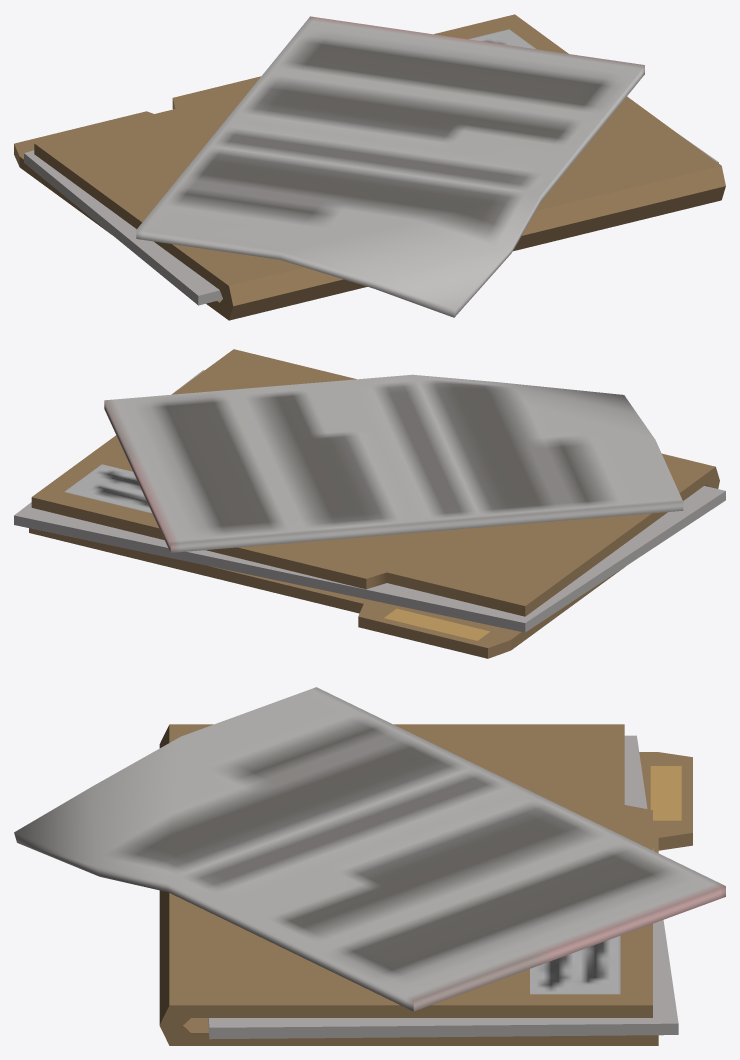
File: SM_Prop_Folder_Manila_03.fbx
3 views of the same model, one above another, from view 1: azimuth 30°, elevation 25°; view 2: azimuth 150°, elevation 25°; view 3: azimuth 270°, elevation 25° (orthographic). The views are drawn at different scales.
Parts seen in each view (by area): view 1: SM_Prop_Folder_Manila_03; view 2: SM_Prop_Folder_Manila_03; view 3: SM_Prop_Folder_Manila_03.
Boxes of the visible parts, <box> form: SM_Prop_Folder_Manila_03: <box>14,14,725,320</box>; SM_Prop_Folder_Manila_03: <box>14,349,725,658</box>; SM_Prop_Folder_Manila_03: <box>14,687,725,1045</box>.
Size of the model in its own units: 42.68 by 3.86 by 40.93.
